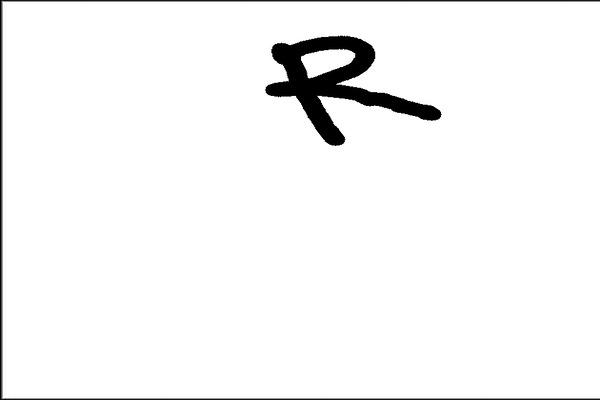R: (264, 32, 448, 147)
